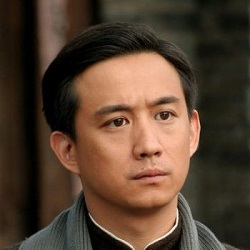unmask: (72, 73, 193, 212)
